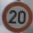20 km speed: (1, 1, 32, 33)
